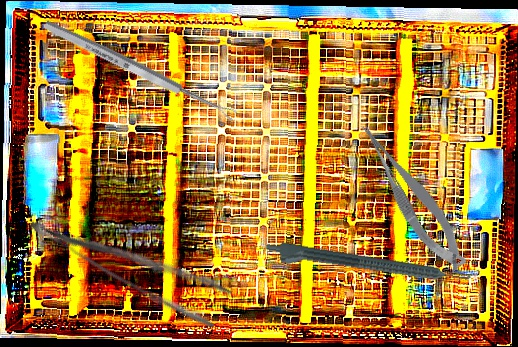Dressing Forceps: (26, 187, 235, 333)
Handpiece: (262, 238, 472, 296)
Micro Scissor: (353, 109, 474, 283)
Surgical Spoon: (42, 17, 238, 124)
